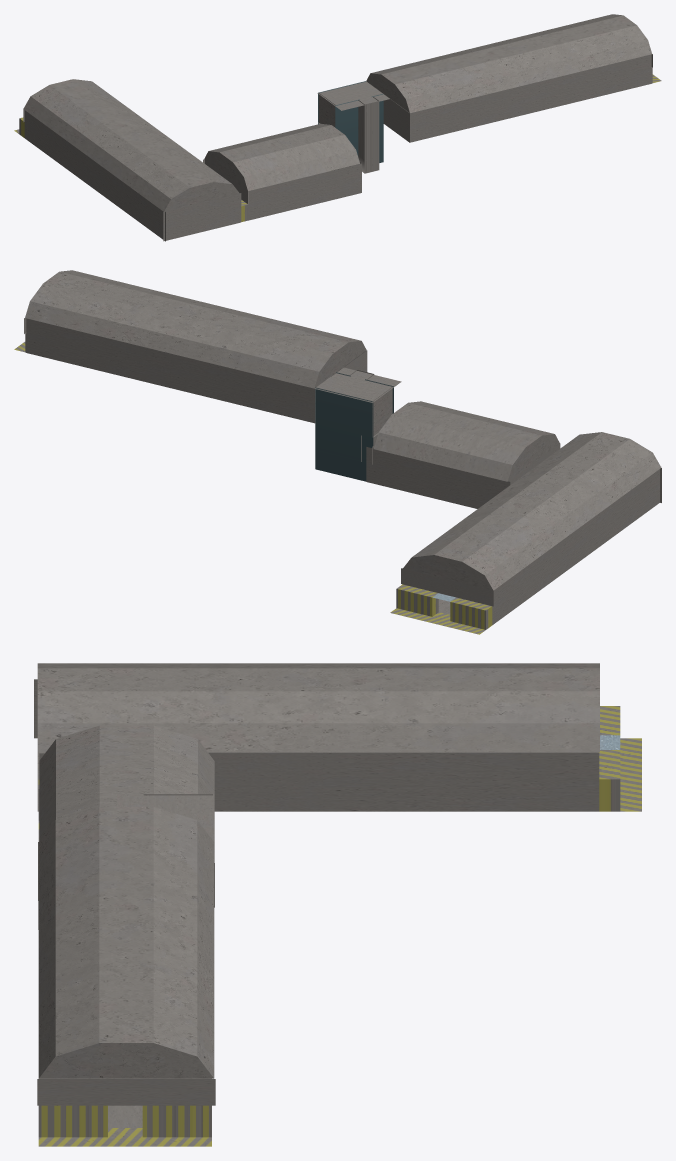
The model's file is GreyBox.fbx.
The picture shows the model from 3 angles, top to bottom: view 1: azimuth 30°, elevation 25°; view 2: azimuth 150°, elevation 25°; view 3: azimuth 270°, elevation 25°; orthographic projection. The views are drawn at different scales.
Visible parts, largest first — view 1: polySurface56, polySurface54, polySurface55, polySurface52, polySurface50, polySurface36, polySurface38, polySurface42, polySurface43, polySurface44, polySurface45, polySurface47 (+2 smaller); view 2: polySurface56, polySurface54, polySurface55, polySurface51, polySurface53, polySurface45, polySurface40, polySurface42, polySurface1, polySurface43, polySurface47, polySurface39 (+1 smaller); view 3: polySurface54, polySurface56, polySurface34, polySurface55, polySurface41, polySurface21, polySurface57, polySurface1, polySurface47, polySurface20.
Part boxes in pixels (x1,y1,x2,y2): polySurface56: [366, 14, 651, 112]; polySurface54: [23, 79, 239, 211]; polySurface55: [204, 123, 359, 190]; polySurface52: [530, 54, 651, 112]; polySurface50: [410, 84, 530, 142]; polySurface36: [248, 163, 361, 220]; polySurface38: [163, 193, 241, 241]; polySurface42: [93, 161, 165, 241]; polySurface43: [24, 110, 93, 188]; polySurface44: [358, 97, 379, 173]; polySurface45: [318, 81, 383, 162]; polySurface47: [317, 81, 389, 110]; polySurface56: [25, 270, 366, 388]; polySurface54: [403, 432, 661, 590]; polySurface55: [374, 401, 559, 481]; polySurface51: [170, 353, 314, 423]; polySurface53: [26, 318, 170, 388]; polySurface45: [315, 372, 393, 481]; polySurface40: [366, 447, 510, 508]; polySurface42: [575, 469, 659, 564]; polySurface1: [390, 584, 492, 634]; polySurface43: [492, 531, 574, 624]; polySurface47: [315, 367, 401, 402]; polySurface39: [401, 568, 493, 606]; polySurface54: [37, 663, 599, 752]; polySurface56: [38, 806, 214, 1078]; polySurface34: [323, 752, 599, 811]; polySurface55: [39, 725, 214, 862]; polySurface41: [208, 752, 323, 811]; polySurface21: [38, 1105, 211, 1146]; polySurface57: [37, 1079, 215, 1105]; polySurface1: [599, 706, 641, 811]; polySurface47: [117, 794, 214, 841]; polySurface20: [39, 1078, 211, 1127].
Size of the model in its own units: 333 by 54.97 by 176.
